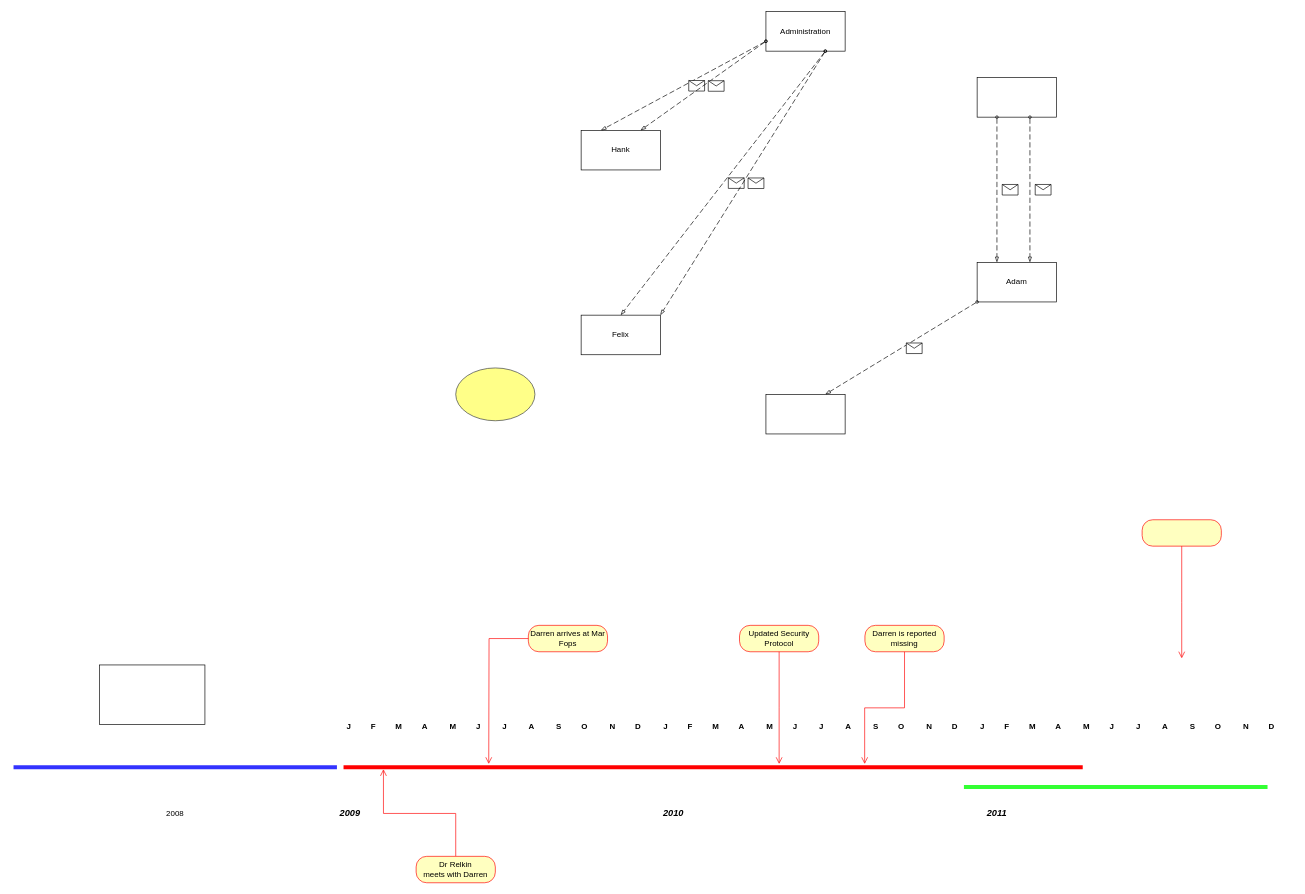
Some shapes in this 1305 by 894 pixel diagram are drawn without their labels. The centre of each missing label's shape, as x and y in pixels:
"Darren" goes at [805,414].
"Historic Events 2008 2009" goes at [152,694].
"Steve" goes at [1016,97].
"Who left the note for Steve?" goes at [495,394].
